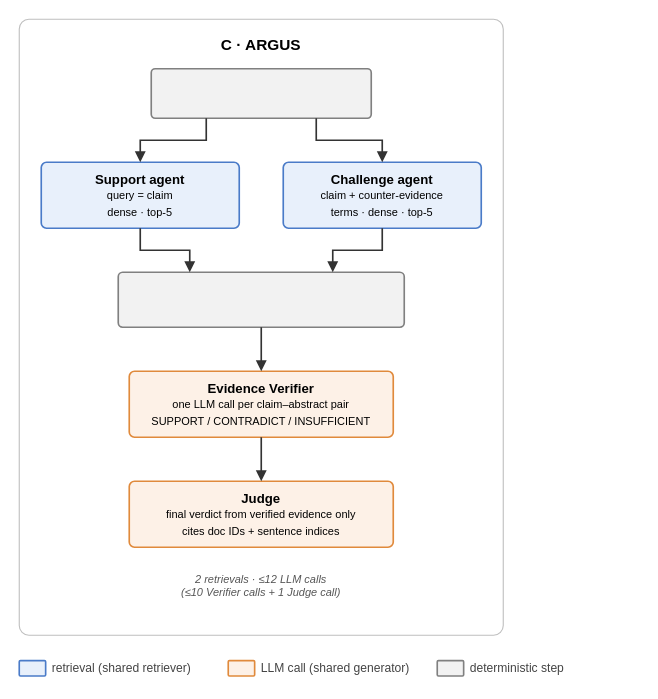
Some shapes in this 658 by 699 pixel diagram are drawn without their labels. The shapes that lost their labels are listed below. From the top down, each one's centre as x and y in pixels, then its label:
At pixel 261 93: "Claim objective deterministic, no LLM call".
At pixel 261 299: "Merge & deduplicate by doc ID ≤10 documents · keeps which agent found each".
